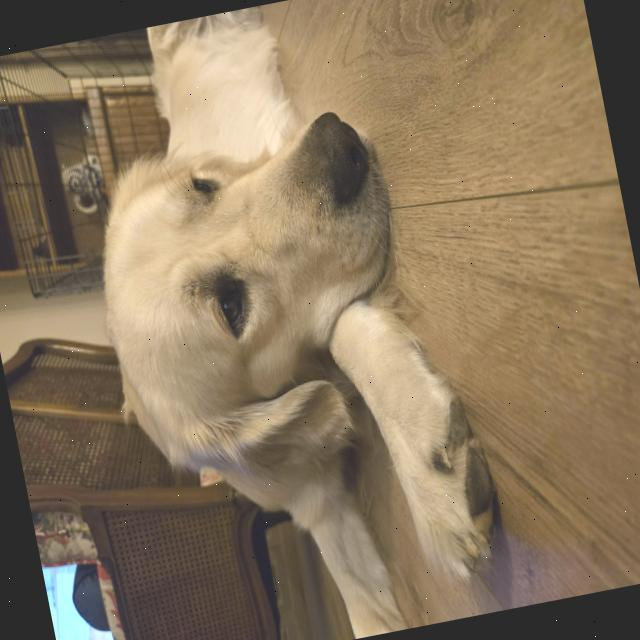golden_retriever_dog: (56, 44, 466, 555)
